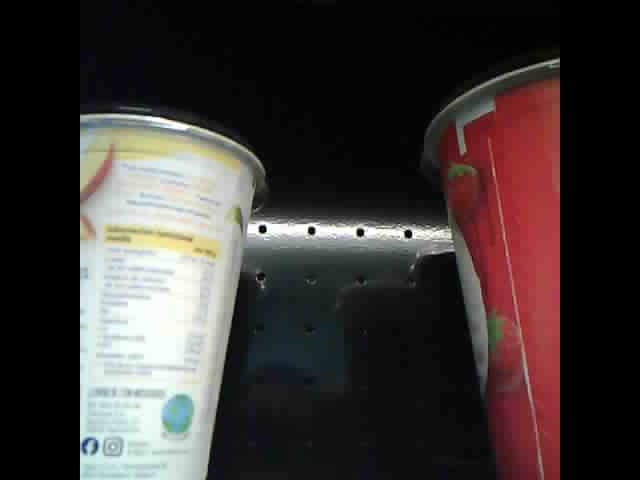alpro: (80, 98, 268, 479), (422, 57, 560, 479)
